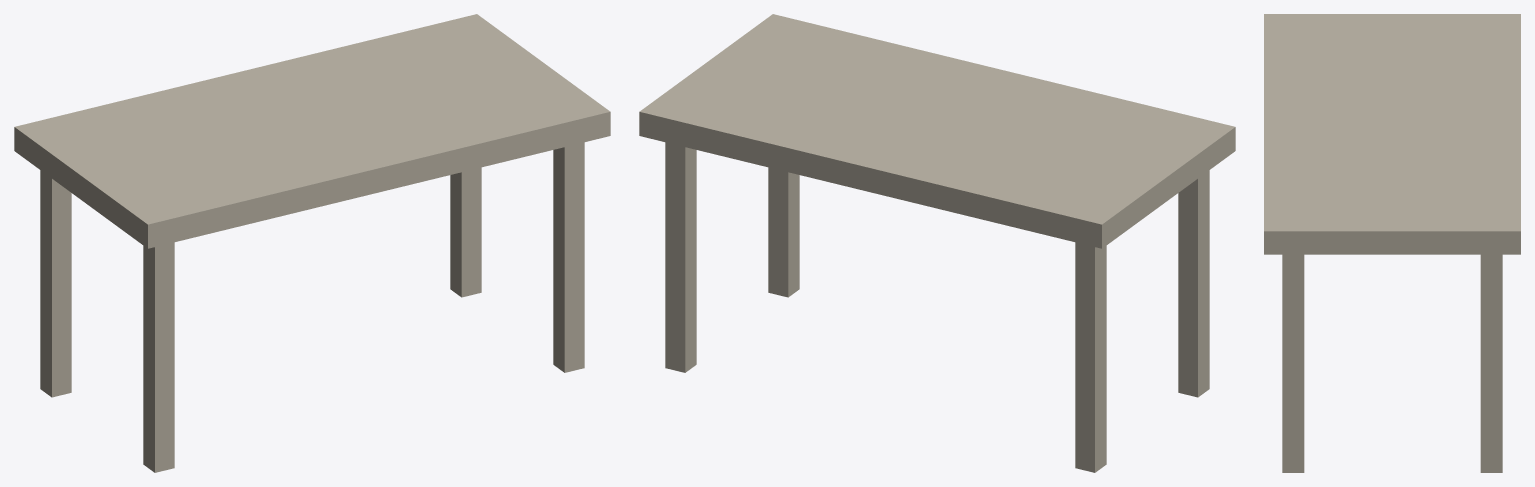
Rendered from desk.glb.
3 renders of one model, left to right at view 1: azimuth 30°, elevation 25°; view 2: azimuth 150°, elevation 25°; view 3: azimuth 270°, elevation 25°, orthographic. The views are drawn at different scales.
Parts seen in each view (by area): view 1: top, leg-11, leg11, leg-1-1, leg1-1; view 2: top, leg-1-1, leg1-1, leg-11, leg11; view 3: top, leg1-1, leg11.
Boxes of the visible parts, x1,y1,x2,y2 form: top: [14, 14, 610, 248]; leg-11: [143, 242, 174, 472]; leg11: [553, 142, 584, 372]; leg-1-1: [40, 170, 71, 397]; leg1-1: [450, 167, 481, 297]; top: [639, 14, 1235, 248]; leg-1-1: [1075, 242, 1106, 472]; leg1-1: [665, 142, 696, 372]; leg-11: [1178, 170, 1209, 397]; leg11: [768, 167, 799, 297]; top: [1264, 14, 1520, 254]; leg1-1: [1480, 254, 1502, 472]; leg11: [1282, 254, 1304, 472].
Bounding box in the file's own units: 1.4 × 0.75 × 0.7.
